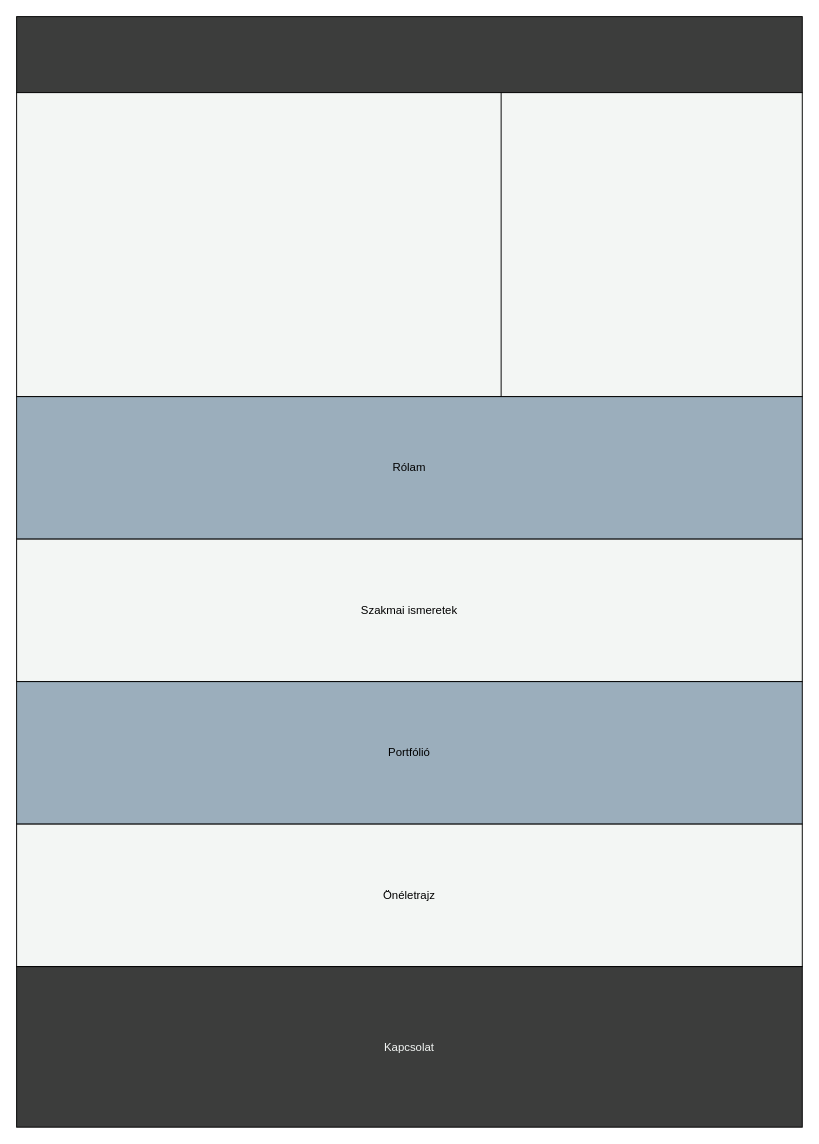
Image size: 819x1144. Some labels were removed from this diagram. The shapes that lost their labels are listed below. From the top down, each one's centre as x and y in pixels, then its label:
point 409,54: Navigációs menü
point 258,244: Valami kép vagy forma
point 649,244: Kiss József - Junior Front-End fejlesztő
